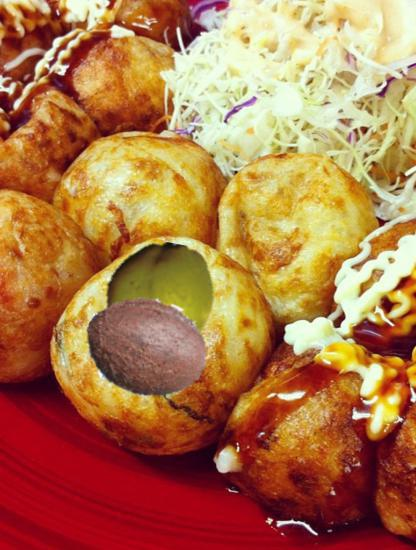Cocos: (84, 285, 208, 409)
Quince: (92, 241, 223, 372)
